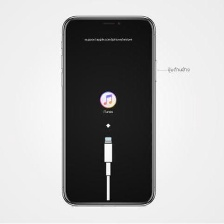phone: (56, 13, 160, 211)
